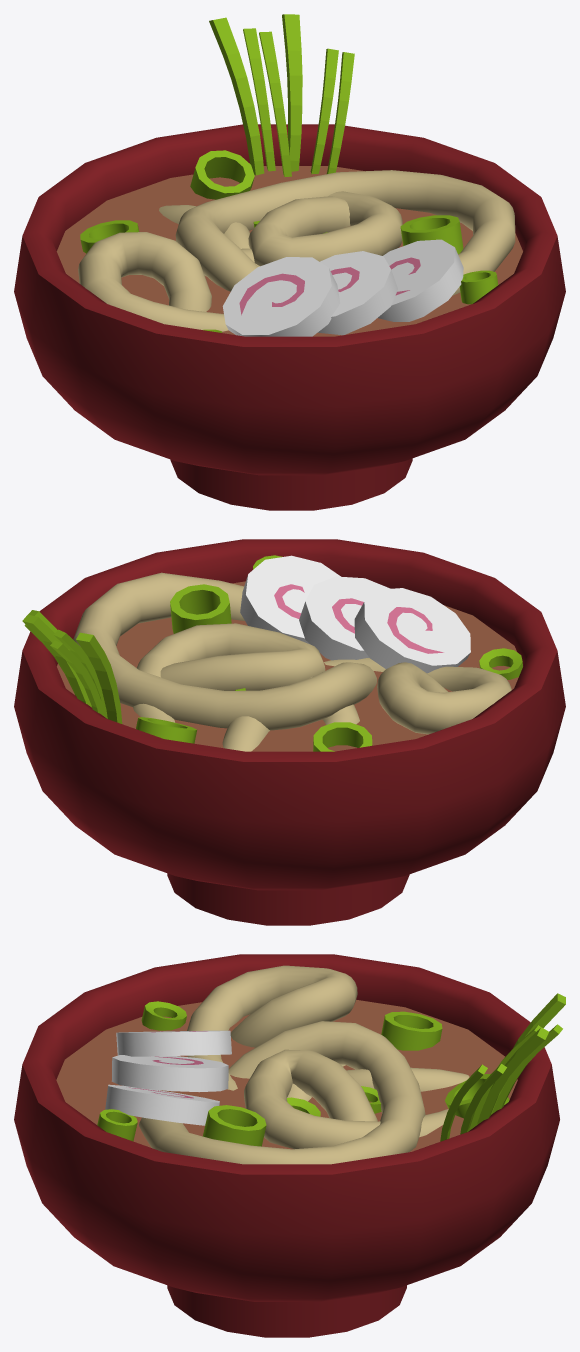
The model's file is udon.glb.
The picture shows the model from 3 angles, top to bottom: view 1: azimuth 30°, elevation 25°; view 2: azimuth 150°, elevation 25°; view 3: azimuth 270°, elevation 25°; orthographic projection.
Visible parts, largest first — view 1: Food_Udon; view 2: Food_Udon; view 3: Food_Udon.
Boxes of the visible parts, <box> form: Food_Udon: <box>14,14,565,510</box>; Food_Udon: <box>14,539,565,925</box>; Food_Udon: <box>14,954,565,1337</box>.
Bounding box in the file's own units: 0.9731 × 0.6442 × 0.9986.
Materials: 1 (1 with a texture image).
